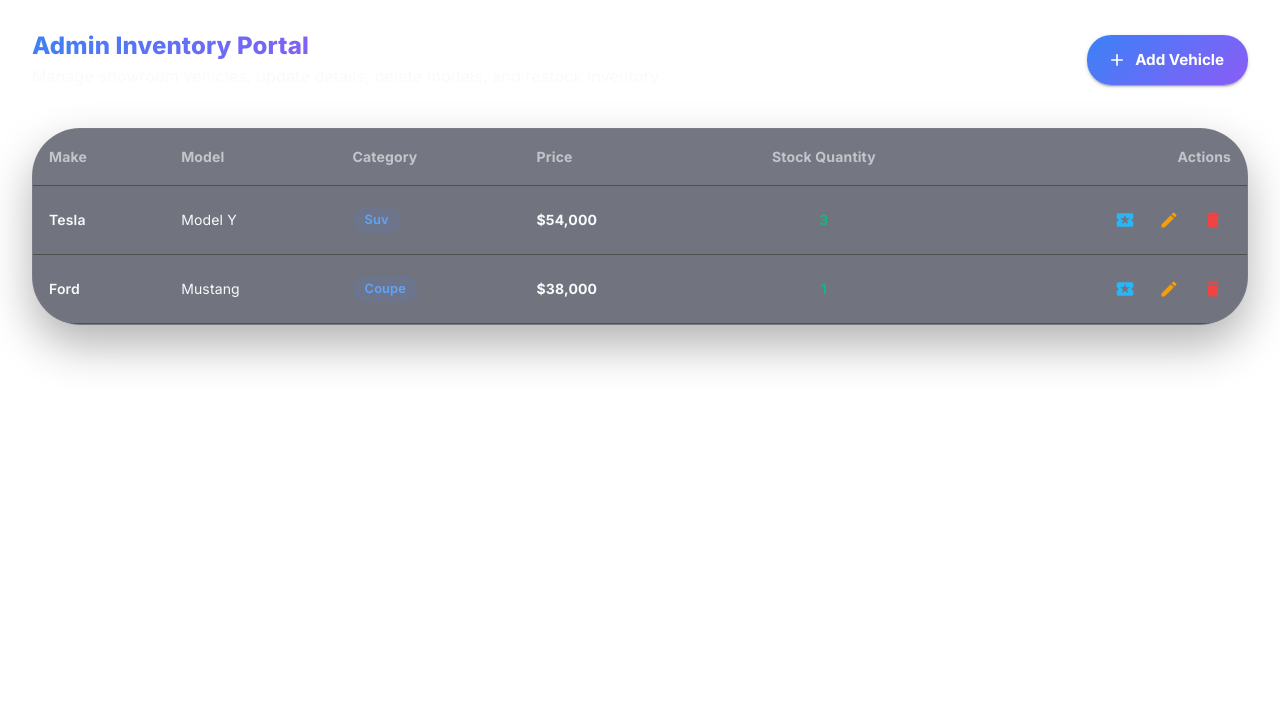
Test: AdminVehiclesPage › should display confirmation dialog and delete a vehicle on confirm
This screenshot has width=1280, height=720.
Check: the text "Tesla" is shown, box [33,186,165,254]
# Click delete for Tesla (first row)
Click the button named "delete" in the row of "Tesla". click: coordinates (1213, 220)
box: [1195,202,1231,238]
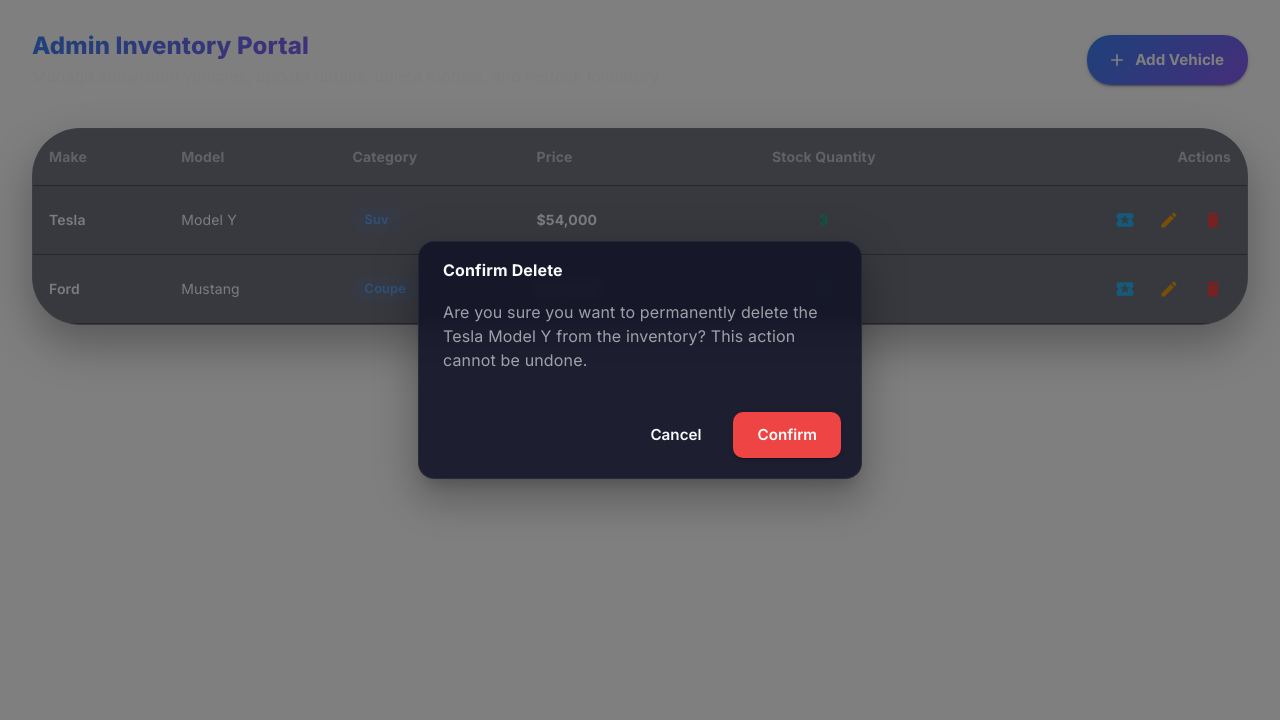
Check: the heading "Confirm Delete" is shown, box [443,260,563,280]
Click the button "Confirm". click: coordinates (787, 435)
box: [733,412,841,458]
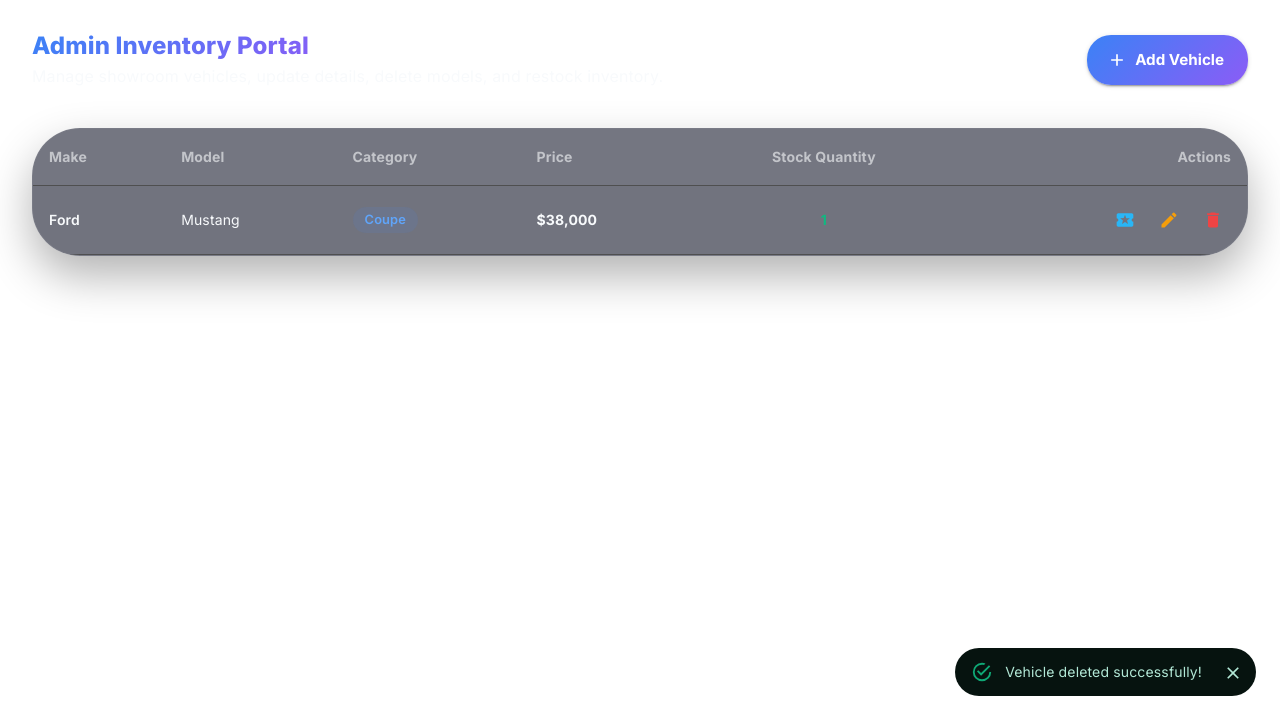
Check: the text "Model Y" is gone
